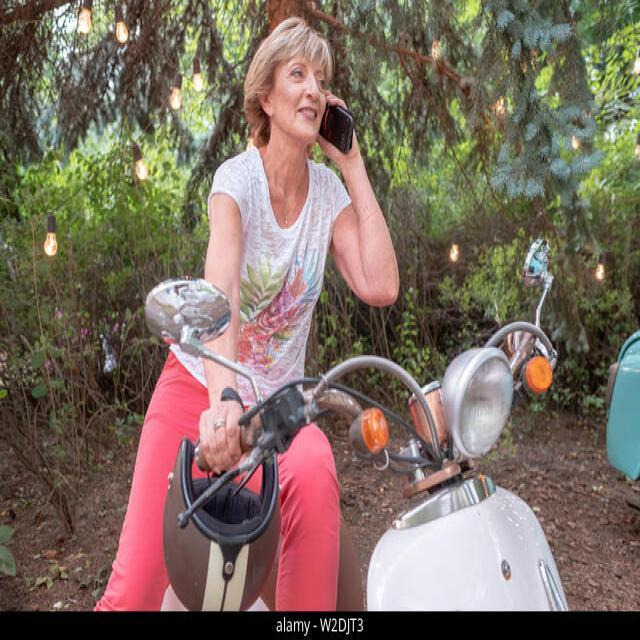No helmet: (254, 12, 329, 148)
Using mobile: (212, 0, 406, 281)
